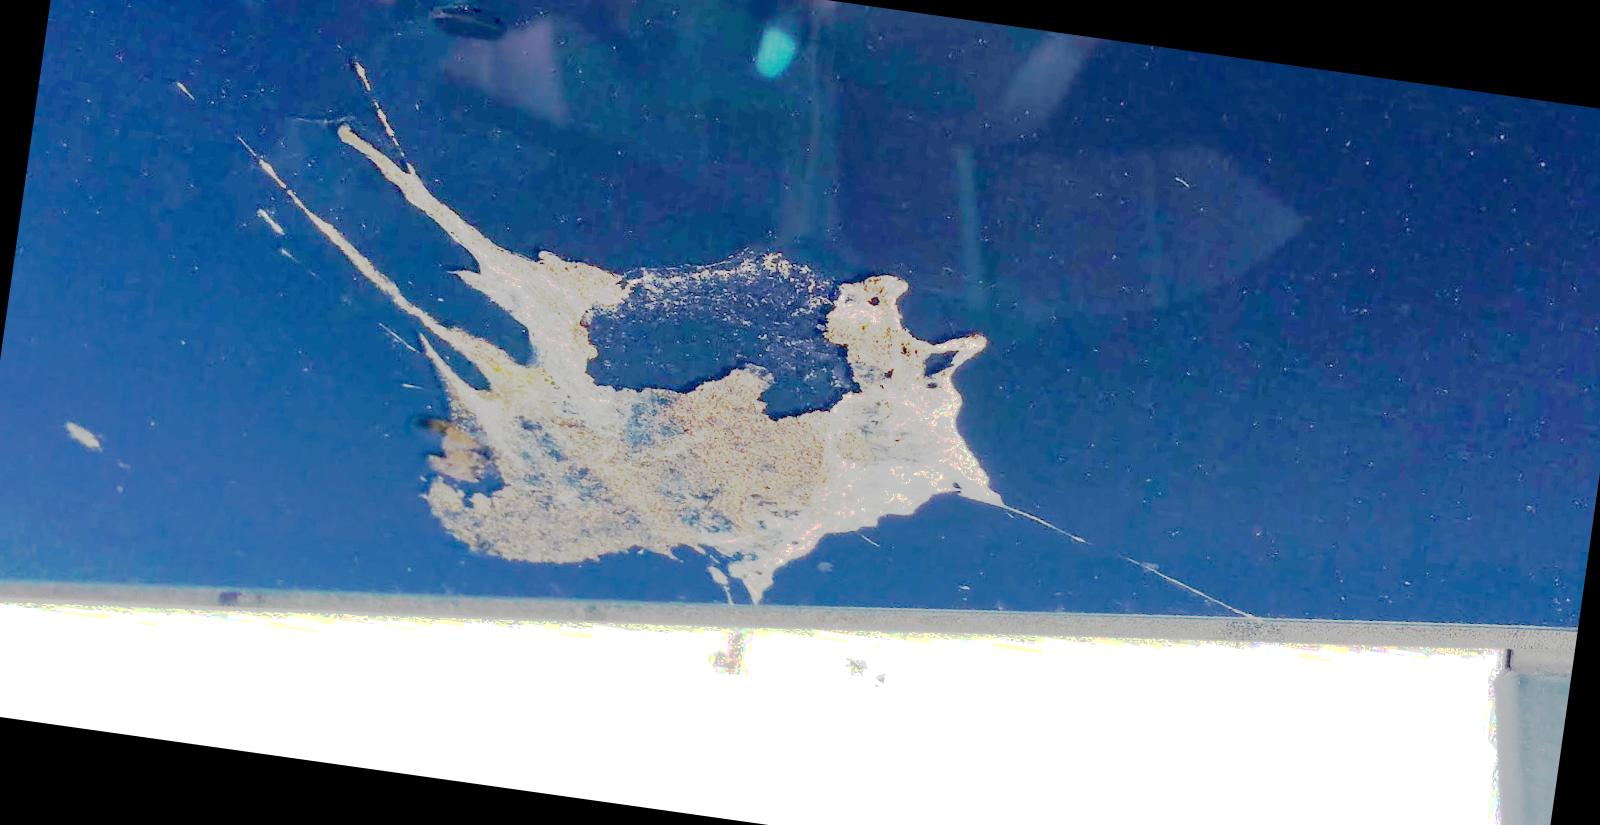Bird Poop: (300, 126, 1004, 600)
